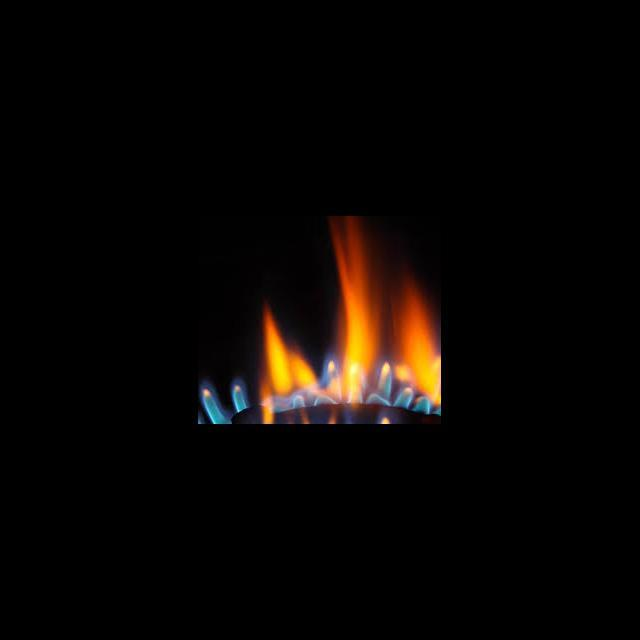Fire: (328, 217, 440, 423), (198, 296, 329, 423)
